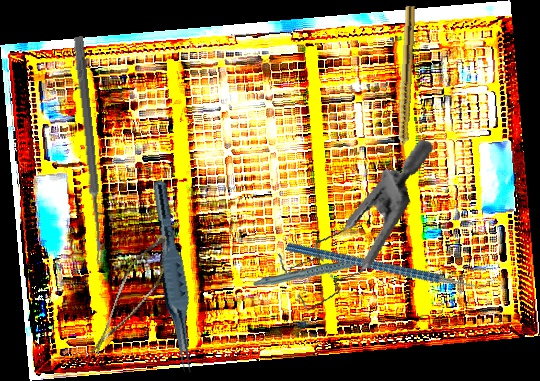Chopper: (285, 176, 497, 351)
Handpiece: (252, 255, 376, 292), (394, 5, 416, 162)
Micro Scissor: (89, 225, 175, 370)
Speculum: (269, 118, 435, 328)
Surgical Spoon: (72, 36, 107, 265)
Tissue Forceps: (141, 178, 204, 376)
